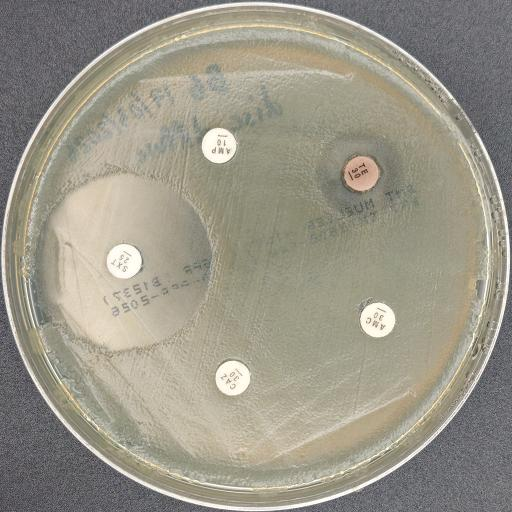disc: (359, 301, 397, 339), (343, 154, 381, 192), (200, 127, 237, 164), (105, 243, 143, 279), (214, 360, 252, 396)
